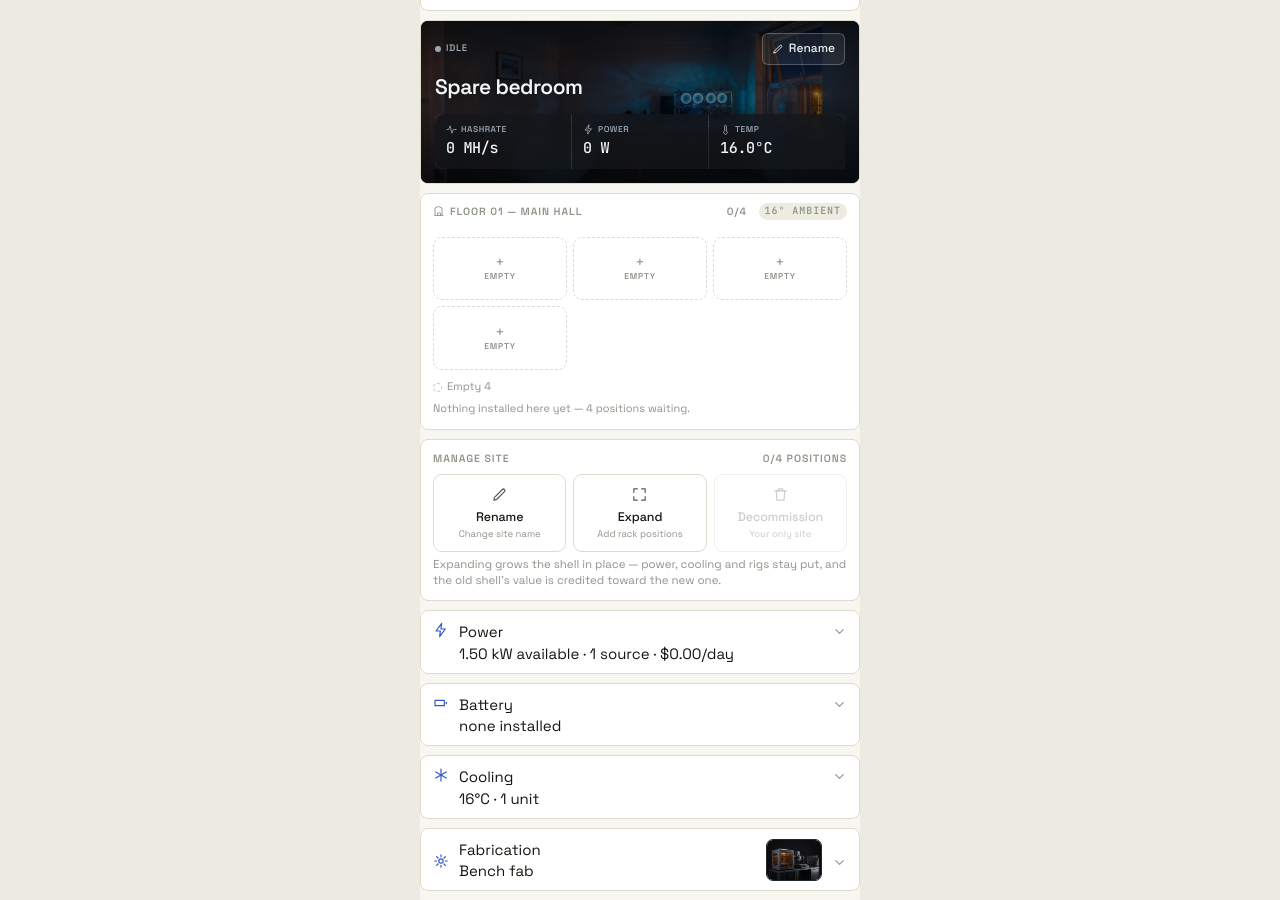
Scenario: SitesView › Designing a custom part › opens a kind chooser limited to what the installed tier supports
(page scrolled)
Click the button with class "rig-hd" showing "Fabrication Bench fab". click: coordinates (500, 849)
box: [421,828,859,890]
(page scrolled)
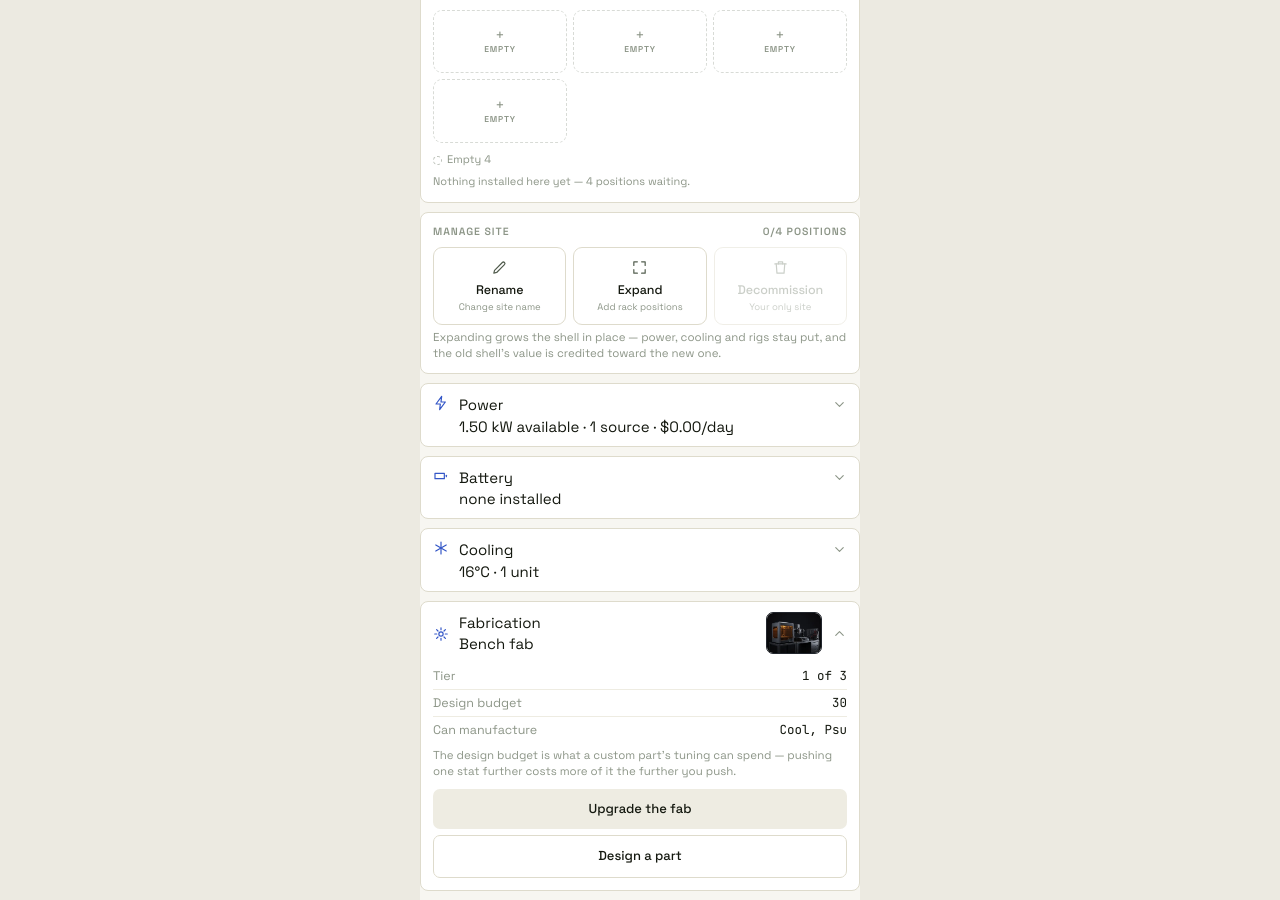
Click the button "Design a part". click: coordinates (640, 857)
box: [433,835,847,878]
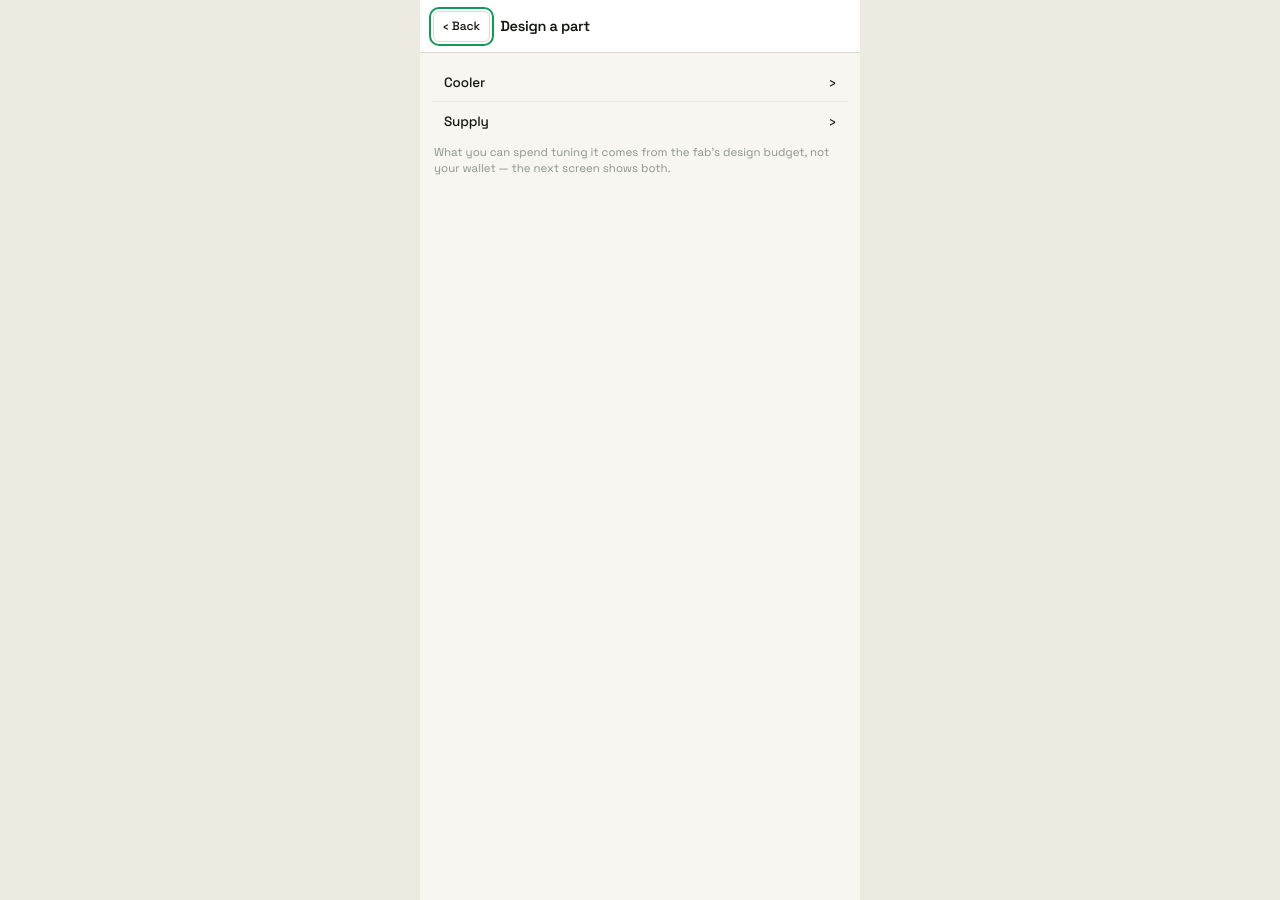
Check: the text "Cooler" is shown, box [444,74,485,91]
Check: the text "Supply" is shown, box [444,113,489,130]
